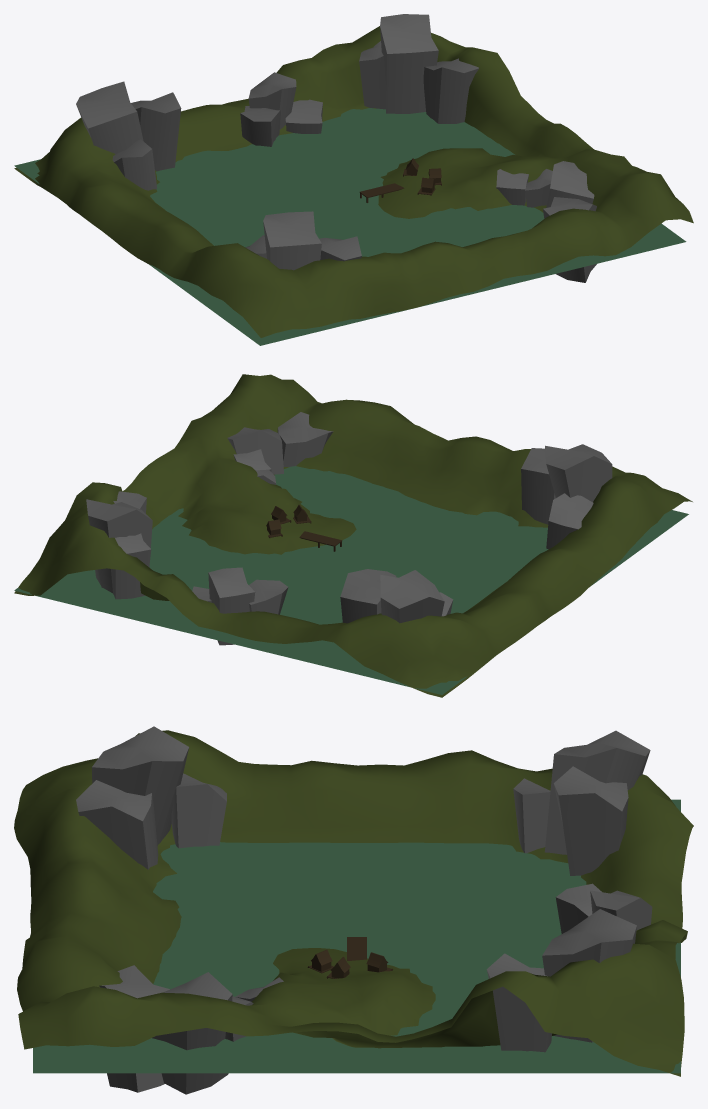
The model's file is TestEnvironment.dae.
3 views of the same model, one above another, from view 1: azimuth 30°, elevation 25°; view 2: azimuth 150°, elevation 25°; view 3: azimuth 270°, elevation 25° (orthographic). The views are drawn at different scales.
Visible parts, largest first — view 1: Terrain, Water, pCube19, pCube22, pCube26, pCube20, pCube21, pCube16, pCube17, pCube23, pCube29, pCube15 (+5 smaller); view 2: Terrain, Water, pCube26, pCube22, pCube19, pCube25, pCube21, pCube30, pCube16, pCube24, pCube29, pCube17 (+1 smaller); view 3: Terrain, Water, pCube21, pCube26, pCube22, pCube25, pCube19, pCube24, pCube20, pCube29, pCube23, pCube30 (+2 smaller).
Part boxes in pixels (box(x1,y1,x2,y2)): Terrain: box(14, 26, 693, 337); Water: box(14, 108, 686, 345); pCube19: box(380, 14, 438, 113); pCube22: box(76, 81, 143, 153); pCube26: box(263, 211, 321, 270); pCube20: box(423, 58, 478, 123); pCube21: box(131, 92, 181, 171); pCube16: box(248, 72, 296, 129); pCube17: box(359, 41, 386, 109); pCube23: box(112, 139, 156, 190); pCube29: box(546, 161, 594, 207); pCube15: box(240, 106, 280, 146); Terrain: box(14, 374, 692, 697); Water: box(14, 466, 688, 694); pCube26: box(545, 444, 612, 502); pCube22: box(380, 570, 444, 623); pCube19: box(86, 499, 152, 593); pCube25: box(521, 448, 555, 524); pCube21: box(340, 569, 396, 623); pCube30: box(277, 412, 333, 466); pCube16: box(208, 567, 255, 645); pCube24: box(546, 493, 593, 549); pCube29: box(227, 427, 283, 474); pCube17: box(111, 533, 151, 599); Terrain: box(14, 730, 693, 1076); Water: box(33, 799, 680, 1073); pCube21: box(554, 766, 628, 875); pCube26: box(91, 726, 189, 845); pCube22: box(544, 730, 650, 854); pCube25: box(76, 780, 158, 869); pCube19: box(542, 909, 636, 1042); pCube24: box(171, 773, 226, 848); pCube20: box(486, 953, 551, 1052); pCube29: box(152, 972, 232, 1094); pCube23: box(513, 778, 550, 853); pCube30: box(99, 965, 169, 1092).
Bounding box in the file's own units: 3444 × 921 × 3416.
